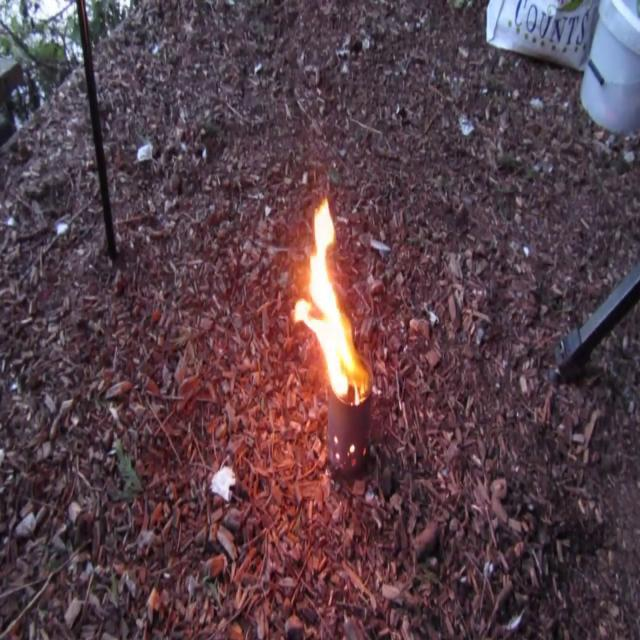Fire: (288, 202, 367, 398)
